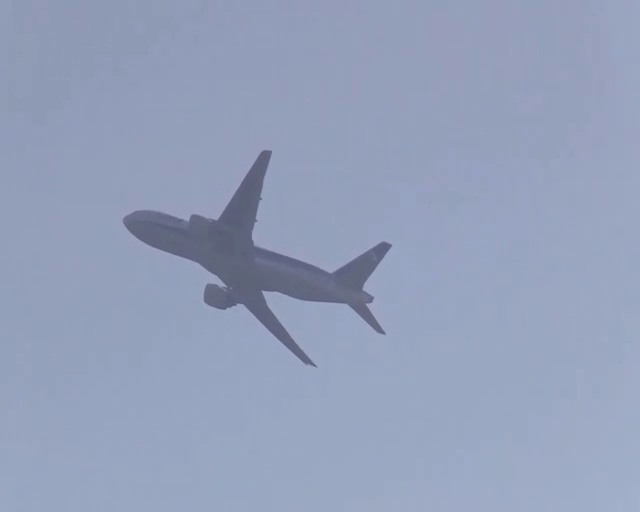AIRPLANE: (123, 148, 392, 372)
